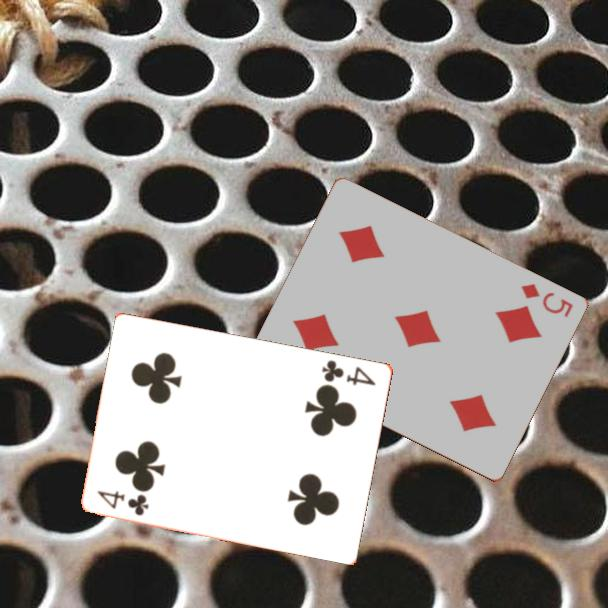c04: (318, 356, 379, 388), (94, 487, 152, 518)
d05: (517, 280, 575, 321)
